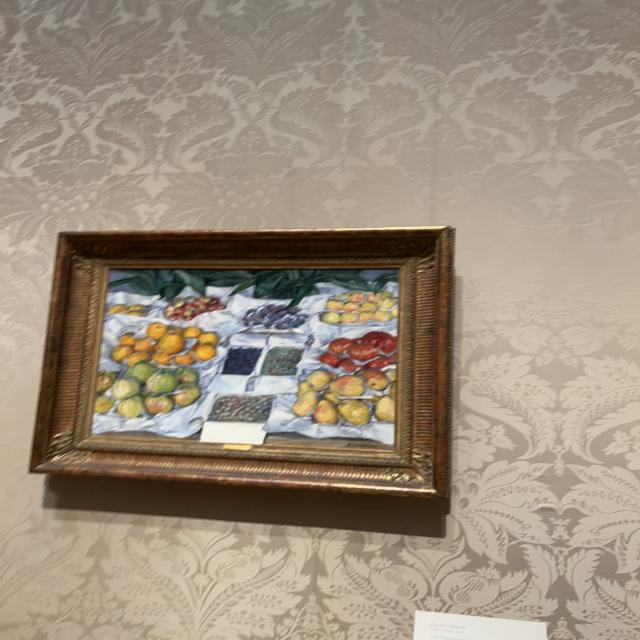fruits: (90, 270, 401, 449)
